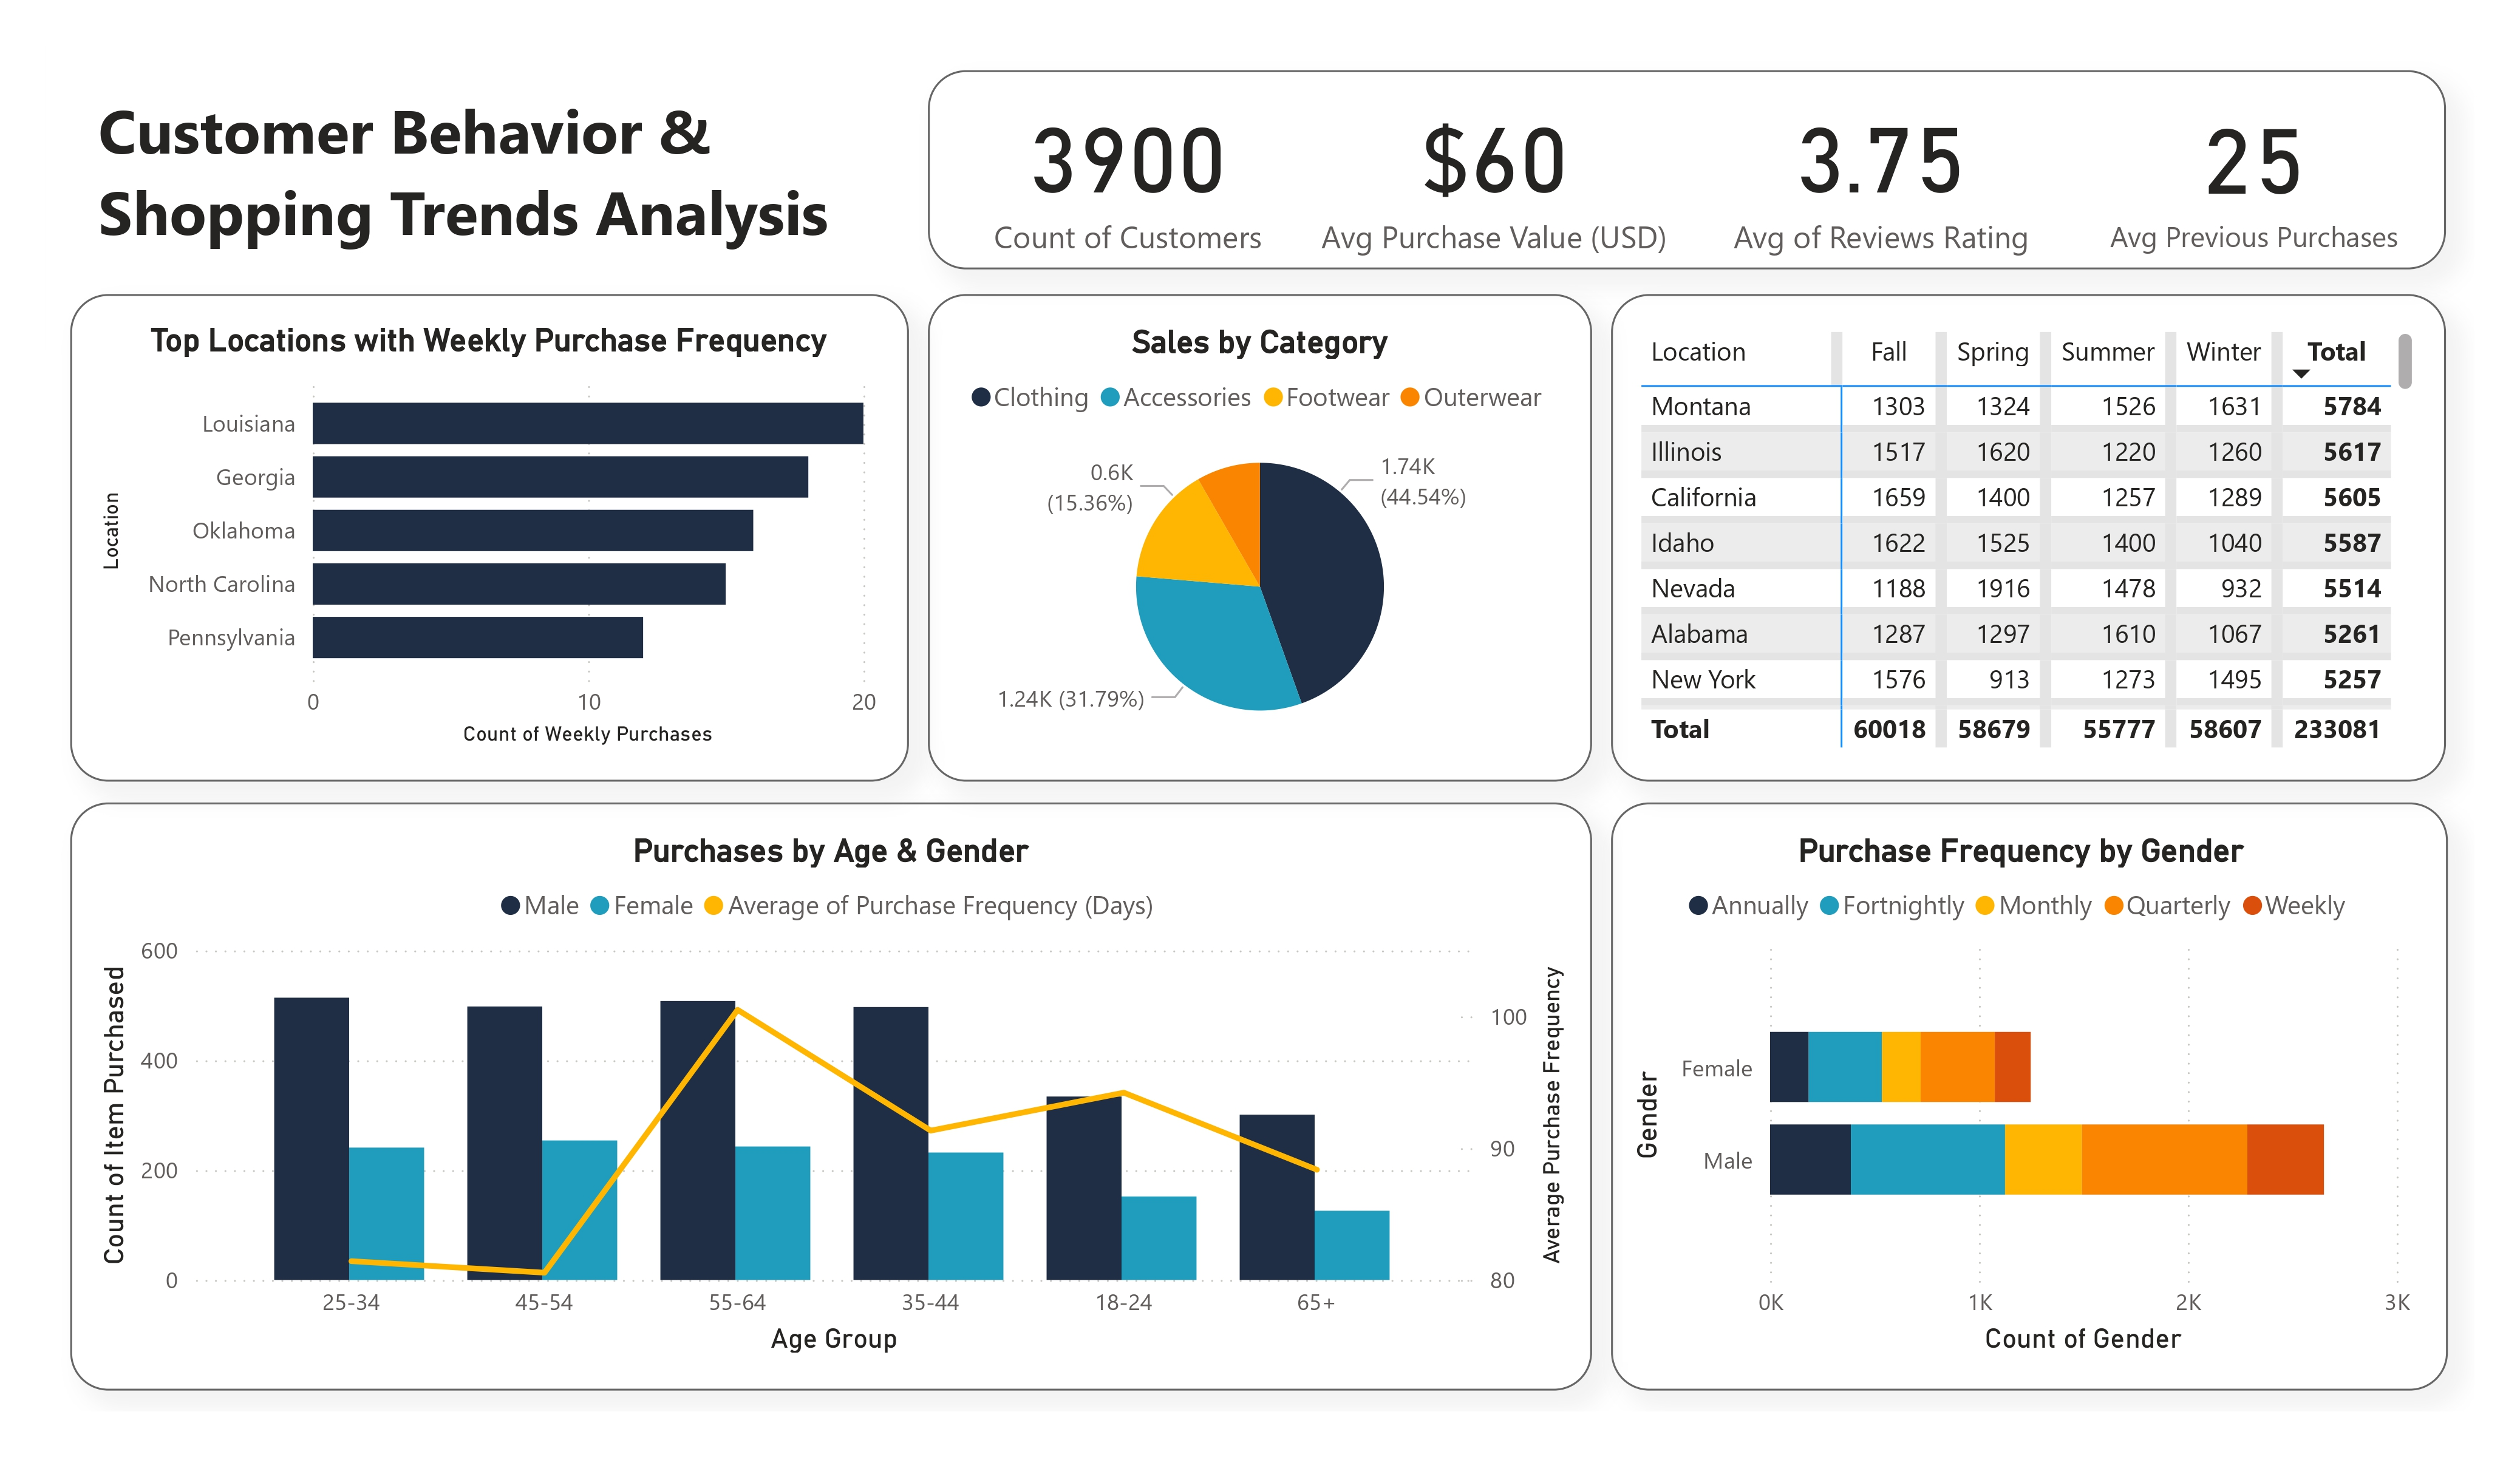

Layout of this report page (visuals, bound fields, positions):
{"tool":"powerbi","page":{"name":"Page 1","canvas":[1280,720],"ordinal":0},"visuals":[{"type":"shape","box":[825,398.8,441.2,310],"z":0},{"type":"shape","box":[12.5,398.8,802.5,310],"z":1000},{"type":"barChart","title":"Purchase Frequency by Gender","fields":{"Category":["shopping_and_behavior_dataset_processed.Gender"],"Y":["CountNonNull(shopping_and_behavior_dataset_processed.Gender)"],"Series":["shopping_and_behavior_dataset_processed.Frequency of Purchases"]},"box":[831.2,413.8,420,280],"z":2000},{"type":"shape","box":[12.5,131.2,442.5,256.2],"z":3000},{"type":"clusteredBarChart","title":"Top Locations with Weekly Purchase Frequency","fields":{"Category":["shopping_and_behavior_dataset_processed.Location"],"Y":["CountNonNull(shopping_and_behavior_dataset_processed.Purchase Frequency (Days))"]},"box":[23.8,145,418.8,228.8],"z":4000},{"type":"textbox","box":[23.3,16.7,404.4,101.1],"z":5000},{"type":"shape","box":[465,12.5,800,105.5],"z":6000},{"type":"card","fields":{"Values":["CountNonNull(shopping_and_behavior_dataset_processed.Customer ID)"]},"box":[479.5,14.5,181,101.5],"z":7000},{"type":"card","fields":{"Values":["Avg(shopping_and_behavior_dataset_processed.Purchase Amount (USD))"]},"box":[666,14.5,195,101.5],"z":8000},{"type":"card","fields":{"Values":["Avg(shopping_and_behavior_dataset_processed.Review Rating)"]},"box":[870,15,195,101],"z":9000},{"type":"card","fields":{"Values":["Avg(shopping_and_behavior_dataset_processed.Previous Purchases)"]},"box":[1079.3,15,170,101.4],"z":10000},{"type":"shape","box":[825,131.2,440,256.2],"z":11000},{"type":"lineClusteredColumnComboChart","title":"Purchases by Age & Gender","fields":{"Category":["shopping_and_behavior_dataset_processed.AgeGroup"],"Series":["shopping_and_behavior_dataset_processed.Gender"],"Y2":["Avg(shopping_and_behavior_dataset_processed.Purchase Frequency (Days))"],"Y":["CountNonNull(shopping_and_behavior_dataset_processed.Item Purchased)"]},"box":[22.5,413.8,782.5,280],"z":12000},{"type":"shape","box":[465,131.2,350,256.2],"z":13000},{"type":"pieChart","title":"Sales by Category","fields":{"Y":["CountNonNull(shopping_and_behavior_dataset_processed.Item Purchased)"],"Category":["shopping_and_behavior_dataset_processed.Category"]},"box":[475,146.2,330,228.8],"z":14000},{"type":"pivotTable","fields":{"Rows":["shopping_and_behavior_dataset_processed.Location"],"Columns":["shopping_and_behavior_dataset_processed.Season"],"Values":["Sum(shopping_and_behavior_dataset_processed.Purchase Amount (USD))"]},"box":[836.2,146.2,416.2,228.8],"z":15000}]}

Visuals, with their boxes in screenshot pixels (x1, y1, x2, y2):
shape: bbox=[1611, 802, 2448, 1390]
shape: bbox=[69, 802, 1592, 1390]
"Purchase Frequency by Gender" barChart: bbox=[1623, 830, 2420, 1362]
shape: bbox=[69, 294, 909, 781]
"Top Locations with Weekly Purchase Frequency" clusteredBarChart: bbox=[90, 321, 885, 755]
textbox: bbox=[90, 77, 857, 269]
shape: bbox=[928, 69, 2446, 270]
card - CountNonNull(shopping_and_behavior_dataset_processed.Customer ID): bbox=[955, 73, 1299, 266]
card - Avg(shopping_and_behavior_dataset_processed.Purchase Amount (USD)): bbox=[1309, 73, 1680, 266]
card - Avg(shopping_and_behavior_dataset_processed.Review Rating): bbox=[1697, 74, 2066, 266]
card - Avg(shopping_and_behavior_dataset_processed.Previous Purchases): bbox=[2094, 74, 2416, 267]
shape: bbox=[1611, 294, 2446, 781]
"Purchases by Age & Gender" lineClusteredColumnComboChart: bbox=[88, 830, 1573, 1362]
shape: bbox=[928, 294, 1592, 781]
"Sales by Category" pieChart: bbox=[947, 323, 1573, 757]
pivotTable - shopping_and_behavior_dataset_processed.Location x shopping_and_behavior_dataset_processed.Season: bbox=[1632, 323, 2422, 757]
